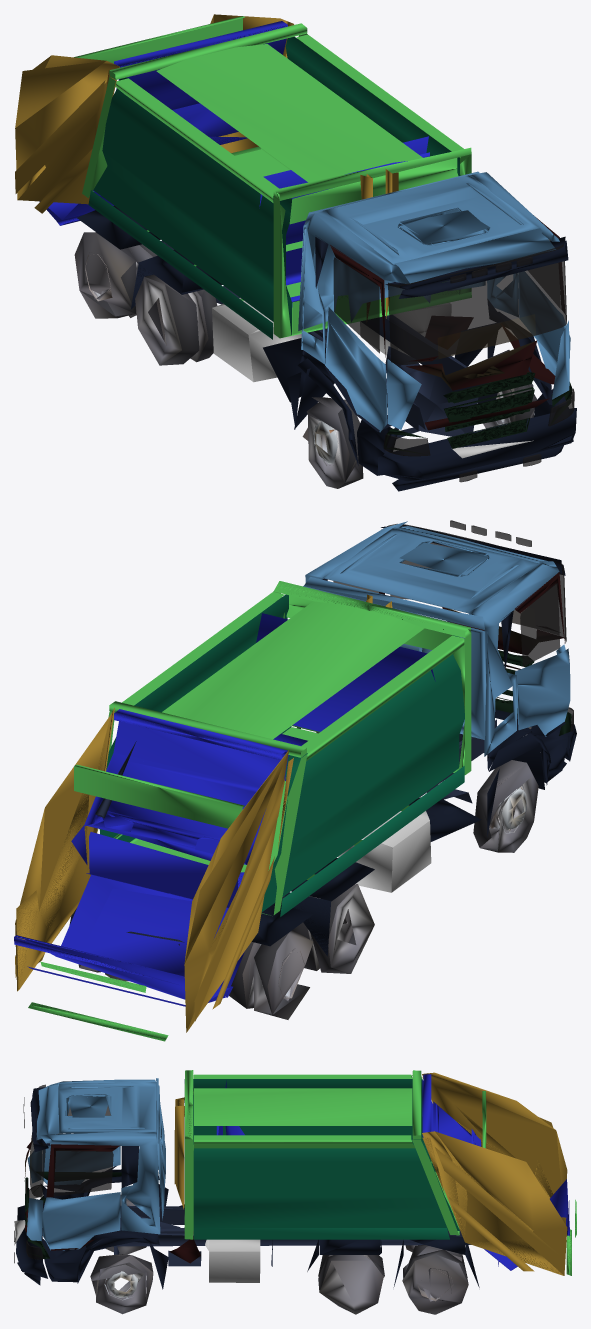
The picture shows the model from 3 angles, top to bottom: view 1: azimuth 30°, elevation 25°; view 2: azimuth 150°, elevation 25°; view 3: azimuth 270°, elevation 25°; orthographic projection. The views are drawn at different scales.
Parts seen in each view (by area): view 1: body, glass, wheel_FL, wheel_RL; view 2: body, glass, wheel_FL, wheel_RL; view 3: body, glass, wheel_FR, wheel_RR.
Part boxes in pixels (bbox=[...]): body: bbox=[15, 14, 576, 491]; glass: bbox=[333, 239, 574, 482]; wheel_FL: bbox=[308, 415, 363, 488]; wheel_RL: bbox=[79, 247, 138, 318]; body: bbox=[14, 521, 576, 1041]; glass: bbox=[333, 520, 573, 731]; wheel_FL: bbox=[480, 775, 533, 852]; wheel_RL: bbox=[246, 944, 309, 1019]; body: bbox=[14, 1070, 576, 1314]; glass: bbox=[14, 1084, 113, 1263]; wheel_FR: bbox=[96, 1262, 146, 1314]; wheel_RR: bbox=[409, 1268, 461, 1314].
Bounding box in the file's own units: 2.71 × 3.31 × 9.4.
